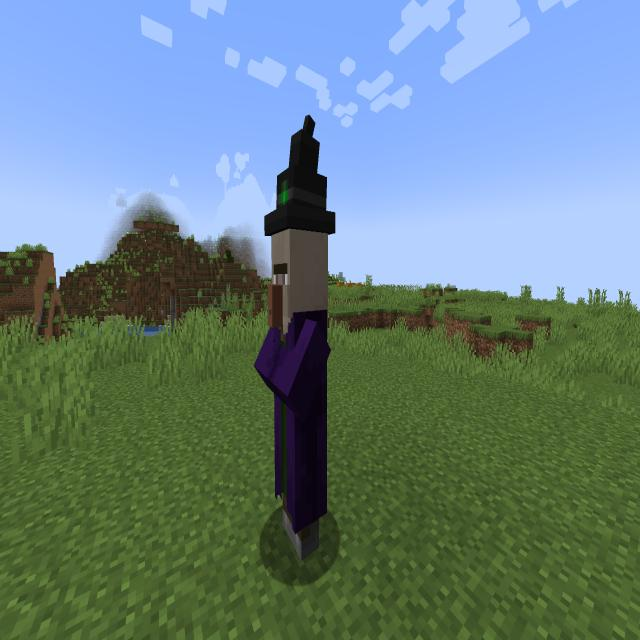Witch: (250, 108, 342, 584)
